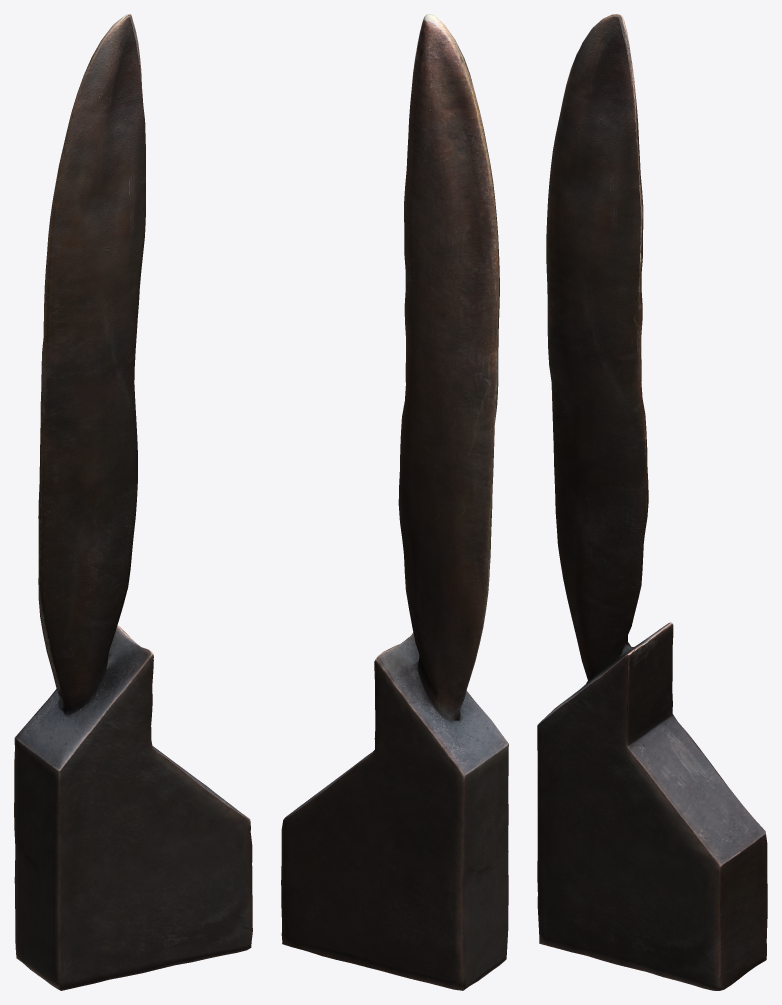
Rendered from YYRA.glb.
The picture shows the model from 3 angles, left to right: view 1: azimuth 30°, elevation 25°; view 2: azimuth 150°, elevation 25°; view 3: azimuth 330°, elevation 25°; orthographic projection. The views are drawn at different scales.
Parts seen in each view (by area): view 1: YYRA_low; view 2: YYRA_low; view 3: YYRA_low.
Boxes of the visible parts, bbox=[...] form: YYRA_low: bbox=[14, 14, 252, 990]; YYRA_low: bbox=[281, 14, 508, 990]; YYRA_low: bbox=[537, 14, 767, 990].
Size of the model in its own units: 0.6787 by 3.17 by 0.3199.
Materials: 1 (1 with a texture image).
